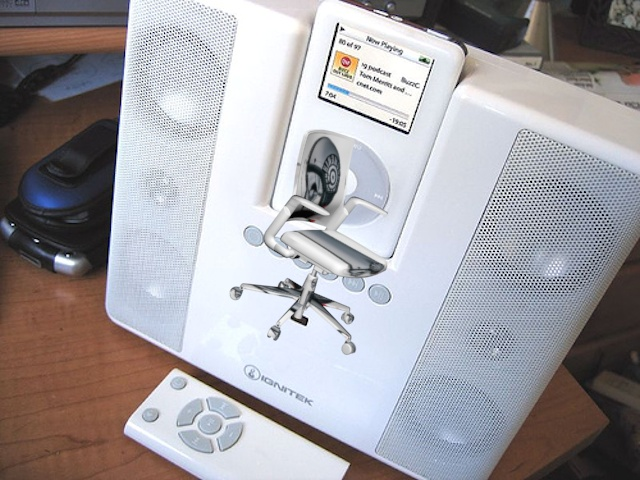desk_chair: (225, 129, 392, 360)
